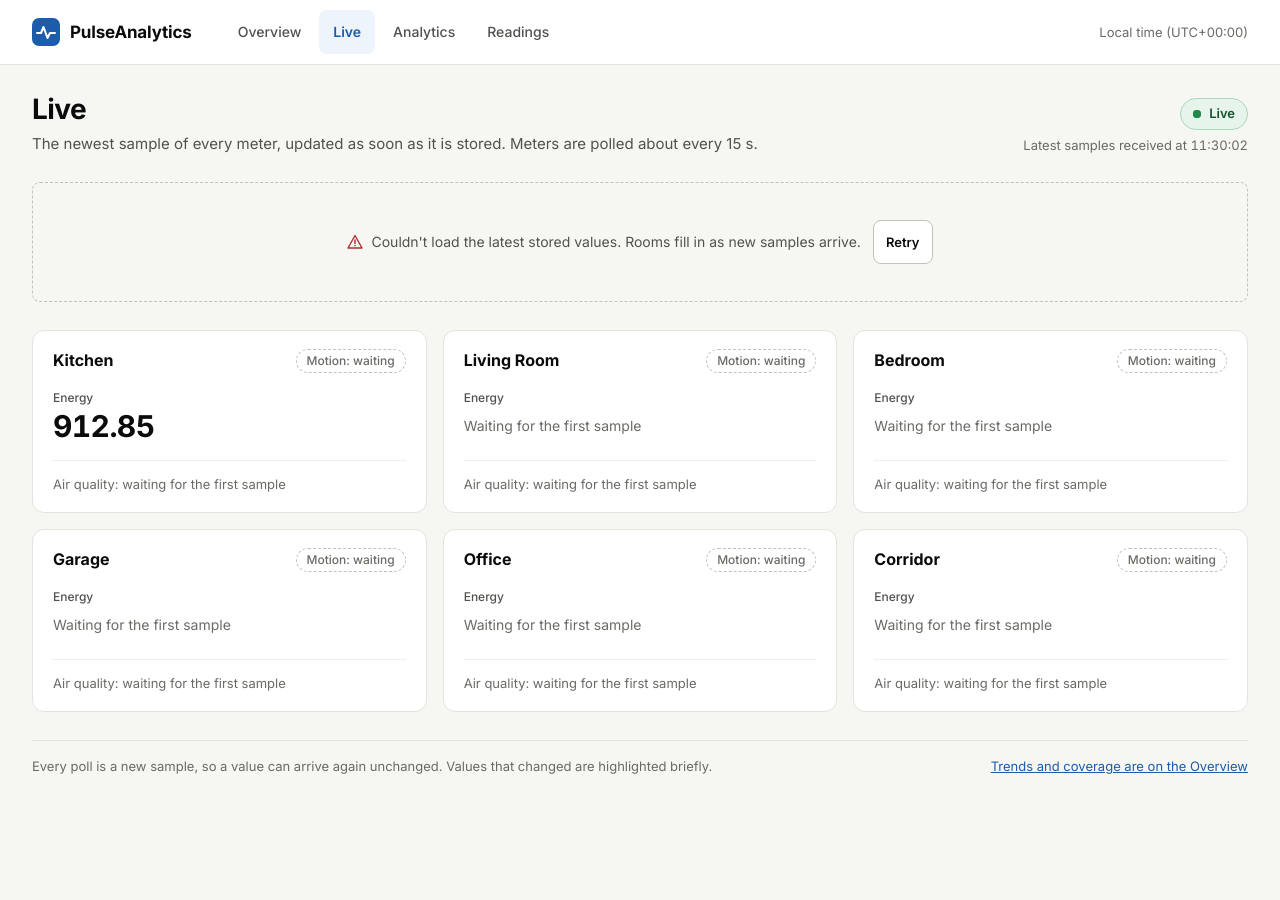
Test: LivePage › fills the rooms from pushes when the stored values fail, and retries them
This screenshot has width=1280, height=900.
Later steps or results of the test are not shown.
Expected: the text "Couldn't load the latest stored values. Rooms fill in as new samples arrive." is shown, [348,232,861,252]
Expected: the text "Motion: waiting" in the row of "Kitchen" is shown, [306,353,395,368]
Click the button "Retry" at (903, 242), box [873,220,932,264]
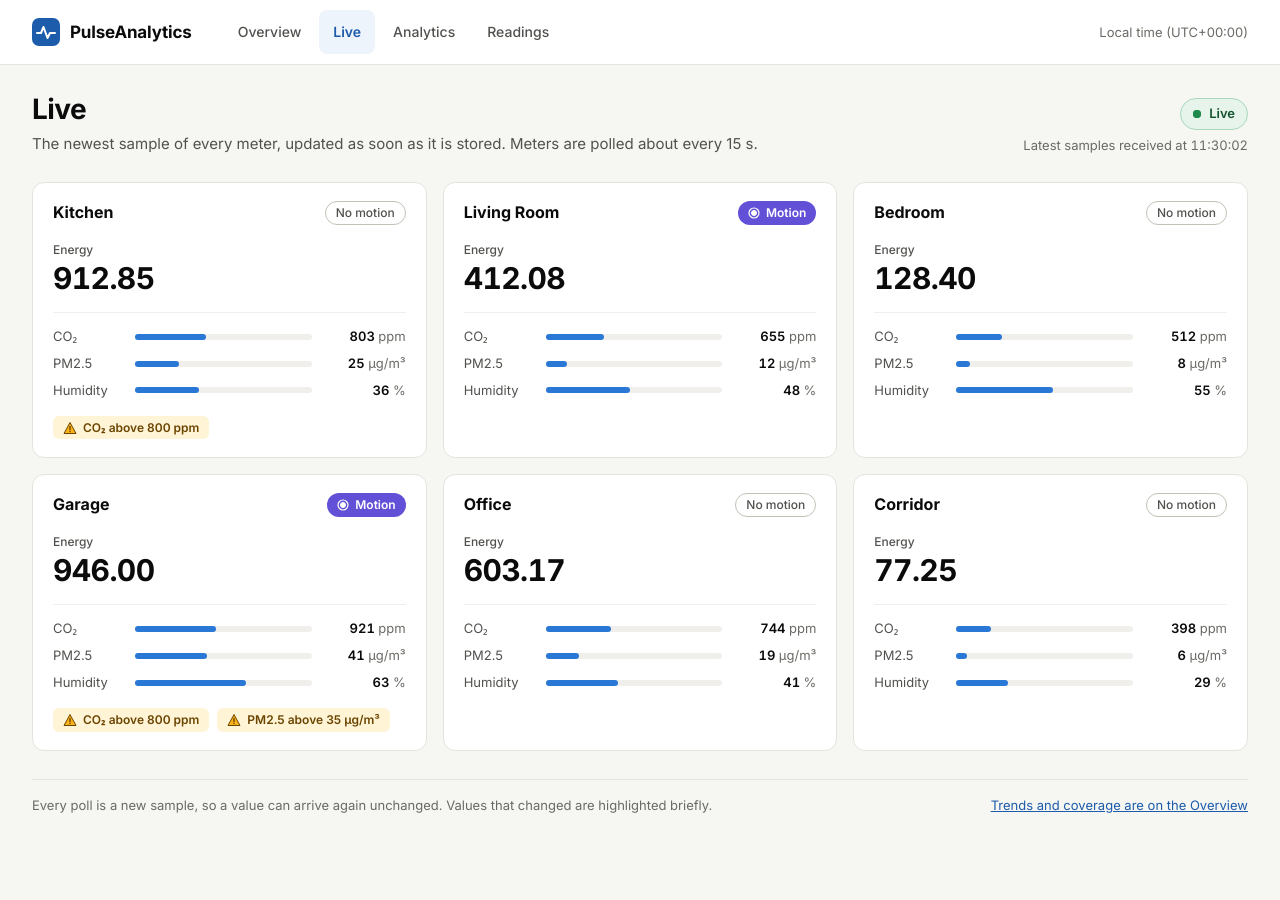
Expected: the text "912.85" is shown, [47,258,160,298]
Result: the text "603.17" is shown at [458,550,571,590]
Result: the text "Couldn't load" is gone
